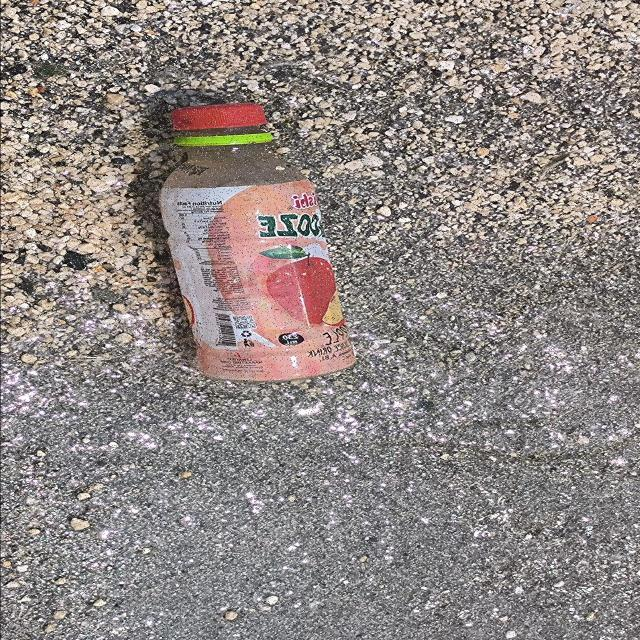plastic_waste: (159, 104, 359, 385)
